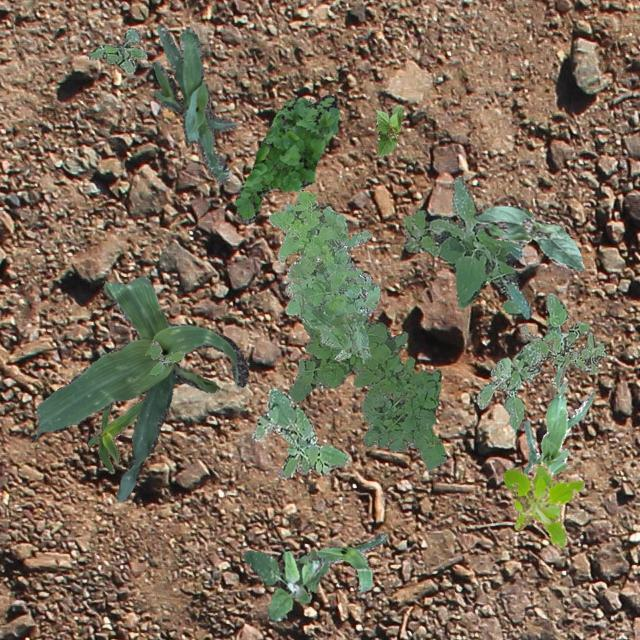crop: (35, 276, 246, 500), (152, 22, 236, 182), (472, 204, 584, 270), (522, 380, 594, 476), (86, 398, 144, 472), (316, 532, 384, 592), (372, 104, 402, 156)
weed: (286, 312, 446, 469), (268, 190, 380, 362), (402, 175, 532, 318), (234, 94, 338, 222), (250, 388, 348, 478), (504, 292, 588, 388), (502, 461, 584, 546), (242, 548, 330, 622), (518, 324, 606, 374), (476, 352, 532, 430), (86, 27, 146, 72), (148, 340, 184, 374), (318, 332, 351, 359)
